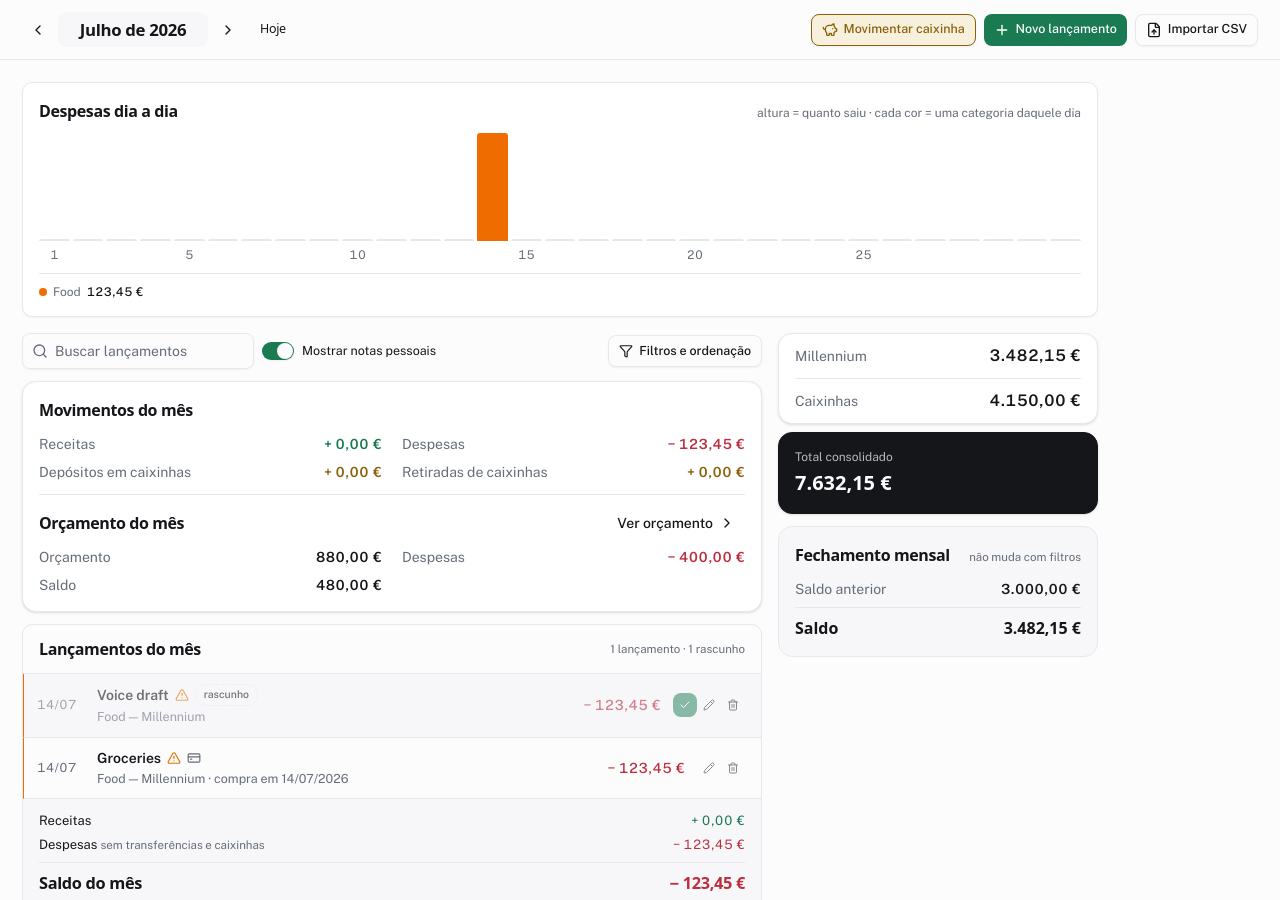
Test: MonthPage › removes a confirmed draft before its draft-list refetch finishes
This screenshot has width=1280, height=900.
Click the button named "Confirmar lançamento" at (685, 705), box [673,693,697,717]
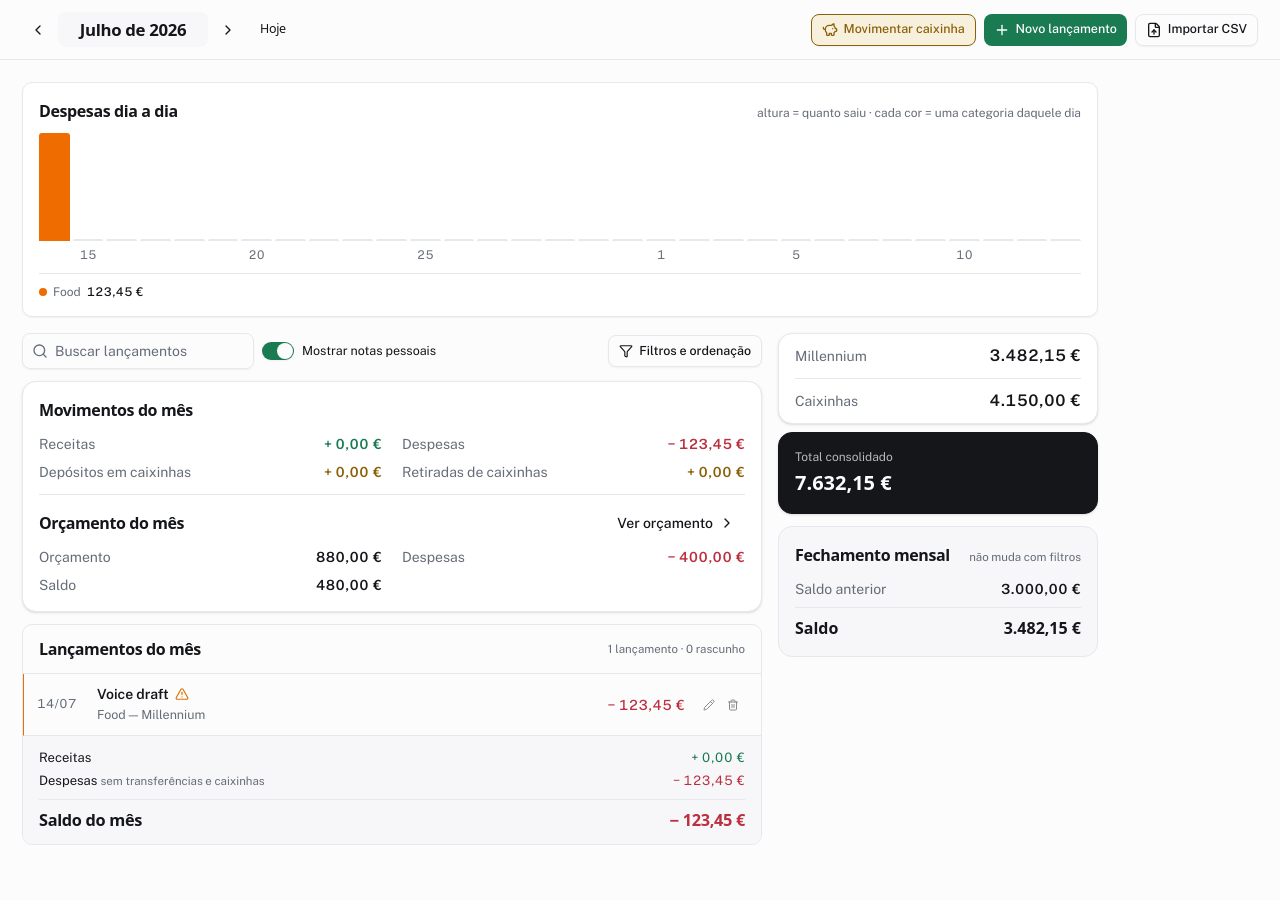
Now the text "Voice draft" is shown once, box [97,684,169,704]
